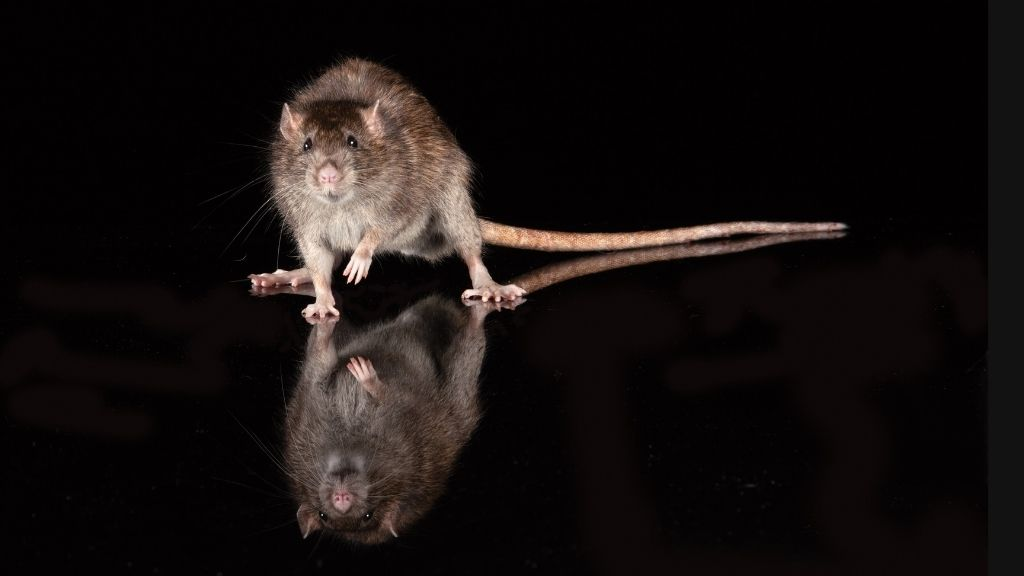Rat: (240, 33, 549, 321)
